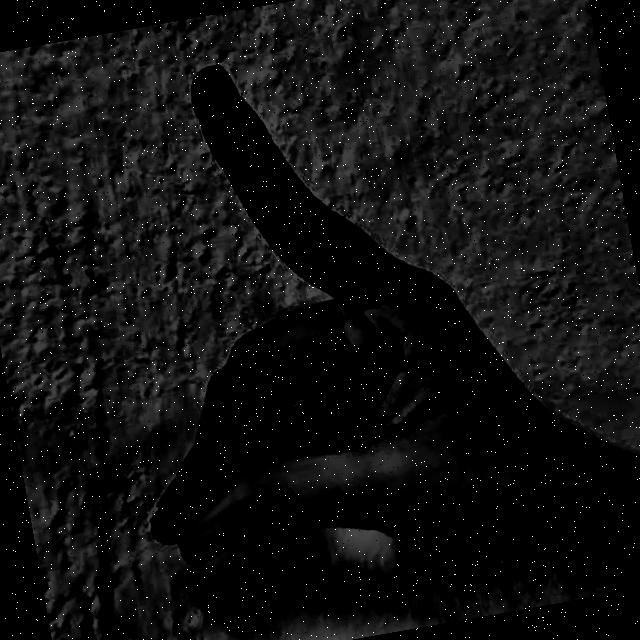Dha: (47, 0, 601, 640)
